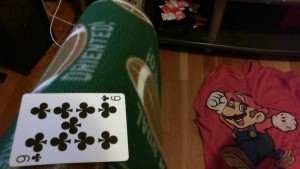NineOfClubs: (7, 91, 130, 169)
